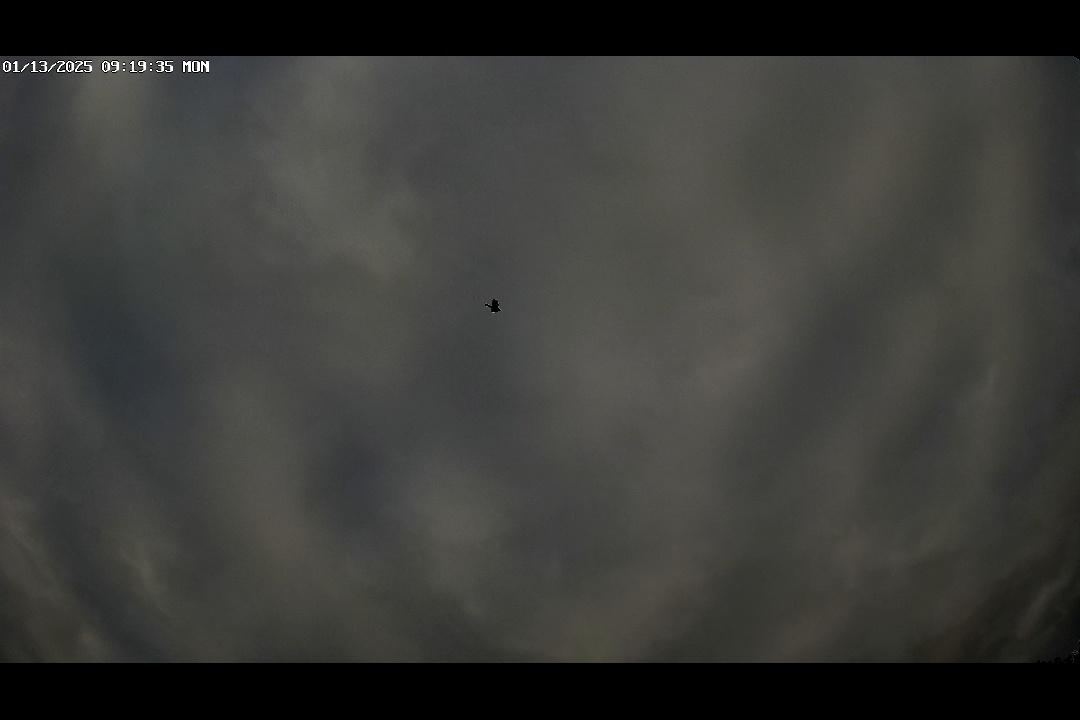WildLife: (460, 290, 524, 321)
